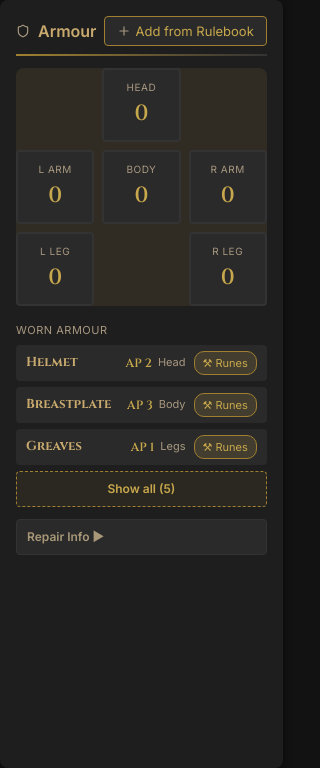
Scenario: Interaction Consolidation — Armour Show All Toggle (Req 11.5) › when > 4 items, only 3 visible with "Show all (N)" toggle; clicking reveals all
The width and height of the screenshot is (320, 768).
expect the element with test id "armour-item-0" is shown: met, box [16, 344, 267, 380]
expect the element with test id "armour-item-1" is shown: met, box [16, 386, 267, 422]
Click toggle to expand
Click the button with test id "armour-show-all-toggle".
click(141, 488)  # box [16, 470, 267, 506]
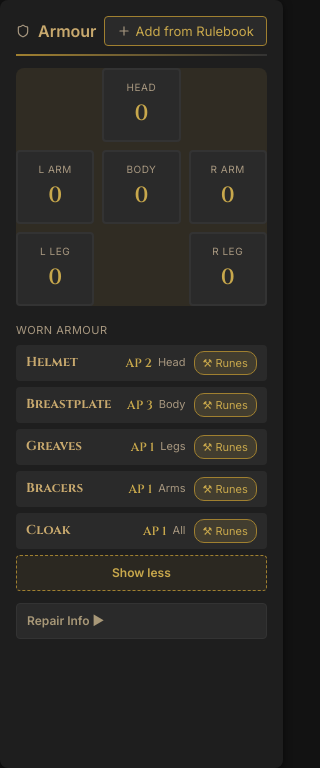
expect the element with test id "armour-item-3" is shown: met, box [16, 470, 267, 506]
expect the element with test id "armour-item-4" is shown: met, box [16, 512, 267, 548]
expect the button with test id "armour-show-all-toggle" reads "Show less": met, box [16, 554, 267, 590]
